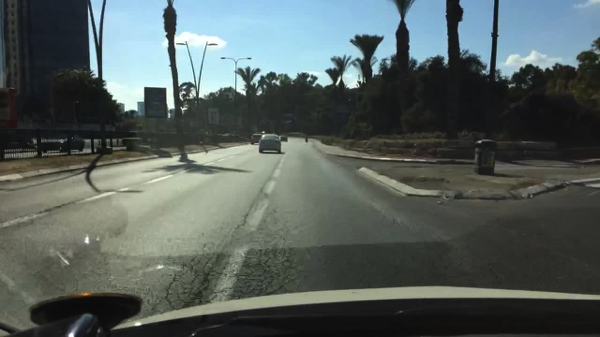car: (32, 133, 86, 153), (258, 134, 280, 156), (250, 134, 263, 145), (278, 134, 288, 143)
traffic sign: (144, 87, 167, 118), (207, 106, 220, 124)
